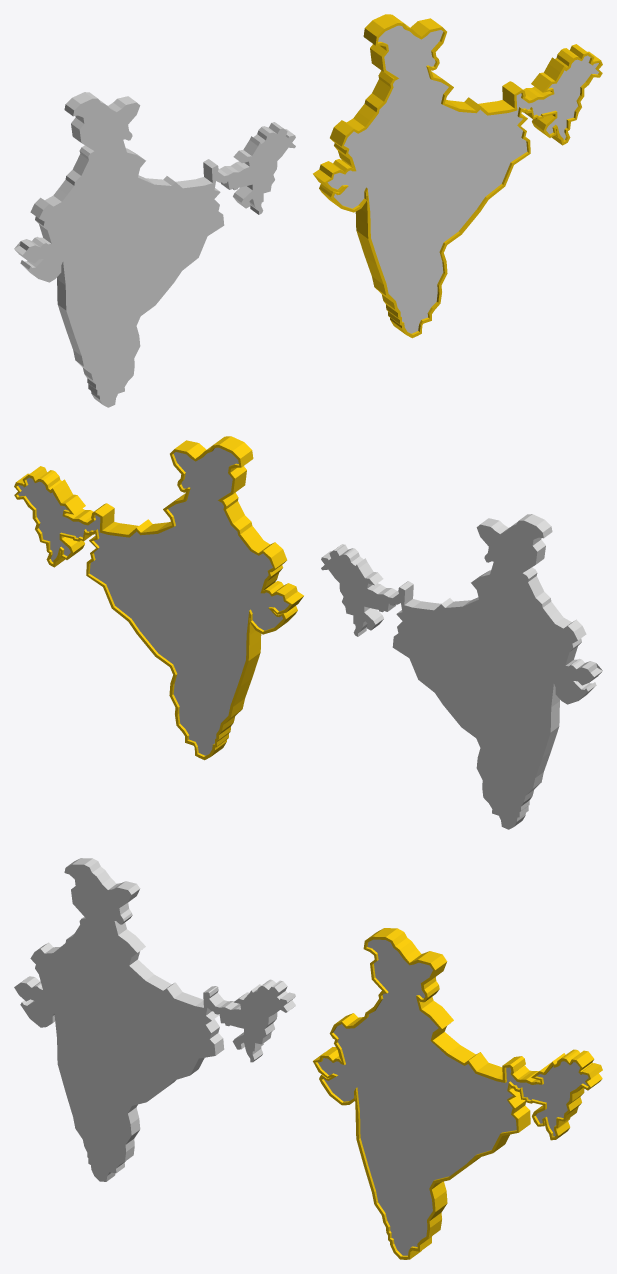
Rendered from india_maps.glb.
The picture shows the model from 3 angles, top to bottom: view 1: azimuth 30°, elevation 25°; view 2: azimuth 150°, elevation 25°; view 3: azimuth 330°, elevation 25°; orthographic projection.
Parts seen in each view (by area): view 1: India_Map (×2), India_Map_Frame; view 2: India_Map (×2), India_Map_Frame; view 3: India_Map (×2), India_Map_Frame.
Part boxes in pixels (box(x1,y1,x2,y2)): India_Map (×2): box(14, 25, 598, 407); India_Map_Frame: box(313, 14, 602, 338); India_Map (×2): box(18, 447, 602, 829); India_Map_Frame: box(14, 436, 303, 760); India_Map (×2): box(14, 858, 588, 1255); India_Map_Frame: box(313, 928, 602, 1259).
Bounding box in the file's own units: 3.77 × 1.99 × 0.1354.
